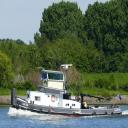tugboat: (11, 59, 125, 120)
